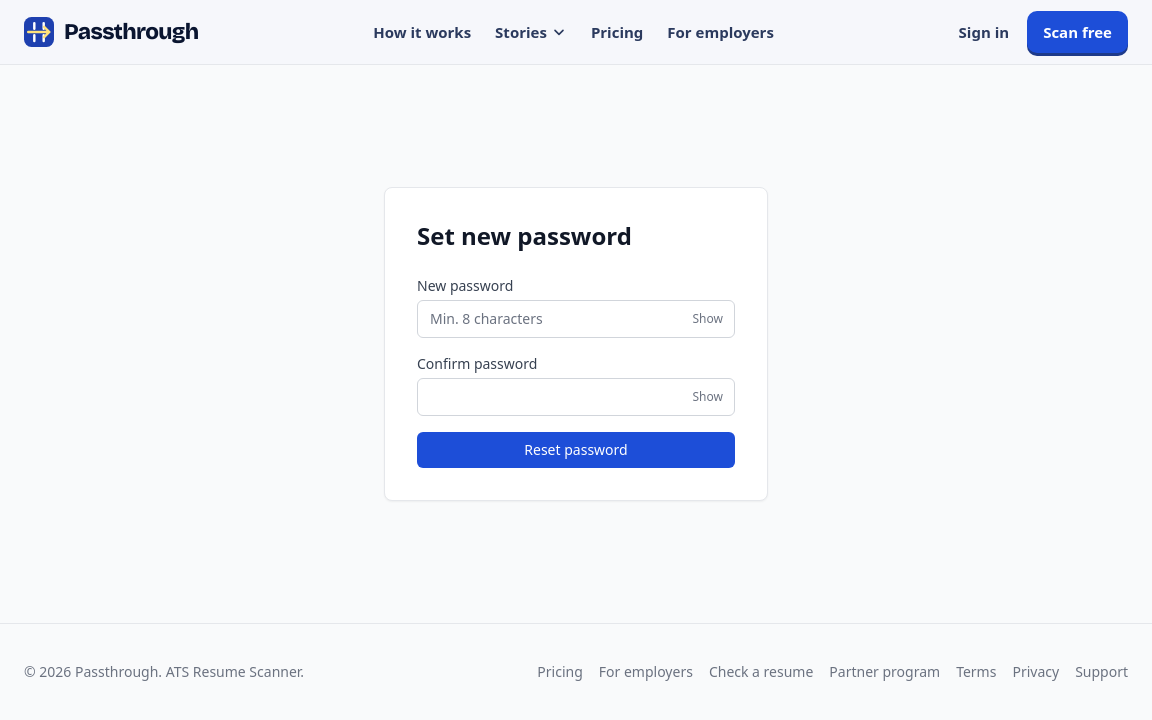
Test case: ResetPassword — a session this browser still holds › is re-checked after a successful reset (the reset revoked it), so Login does not bounce into "session expired"
Expected: the heading "Set new password" is shown, [417,219,632,252]
Type "correct-horse-battery-9" into the password field labelled "New password" at (576, 319), box [417,300,735,338]
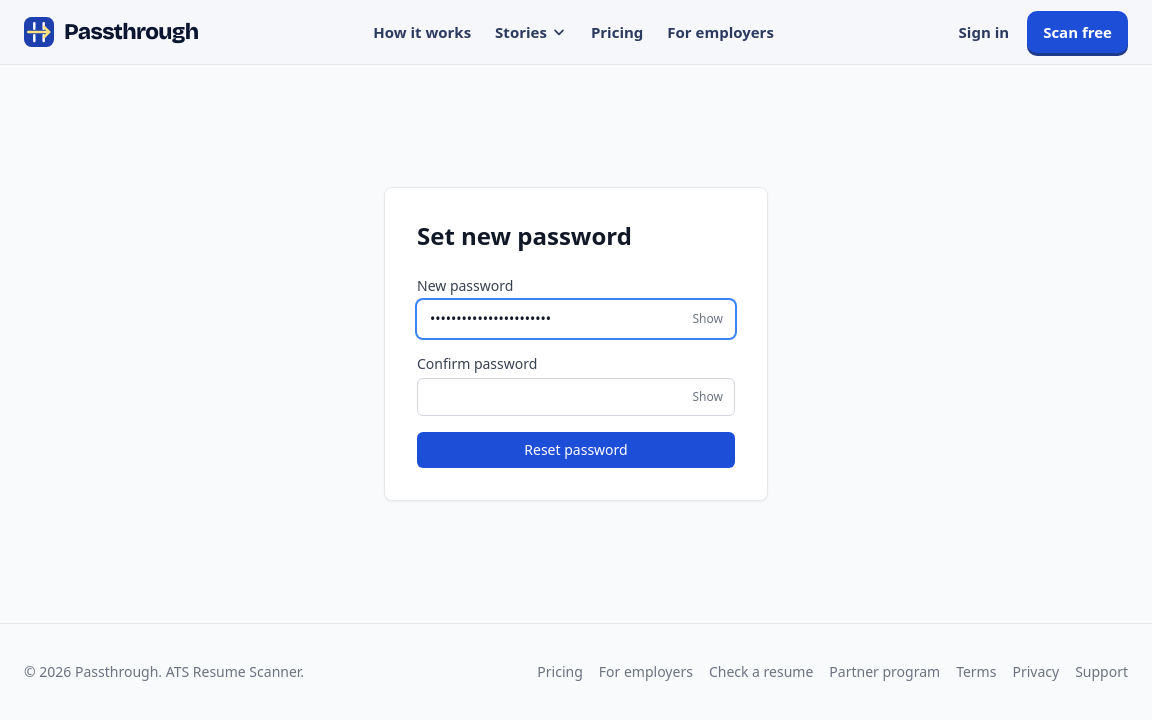
Type "correct-horse-battery-9" into the password field labelled "Confirm password" at (576, 397), box [417,378,735,416]
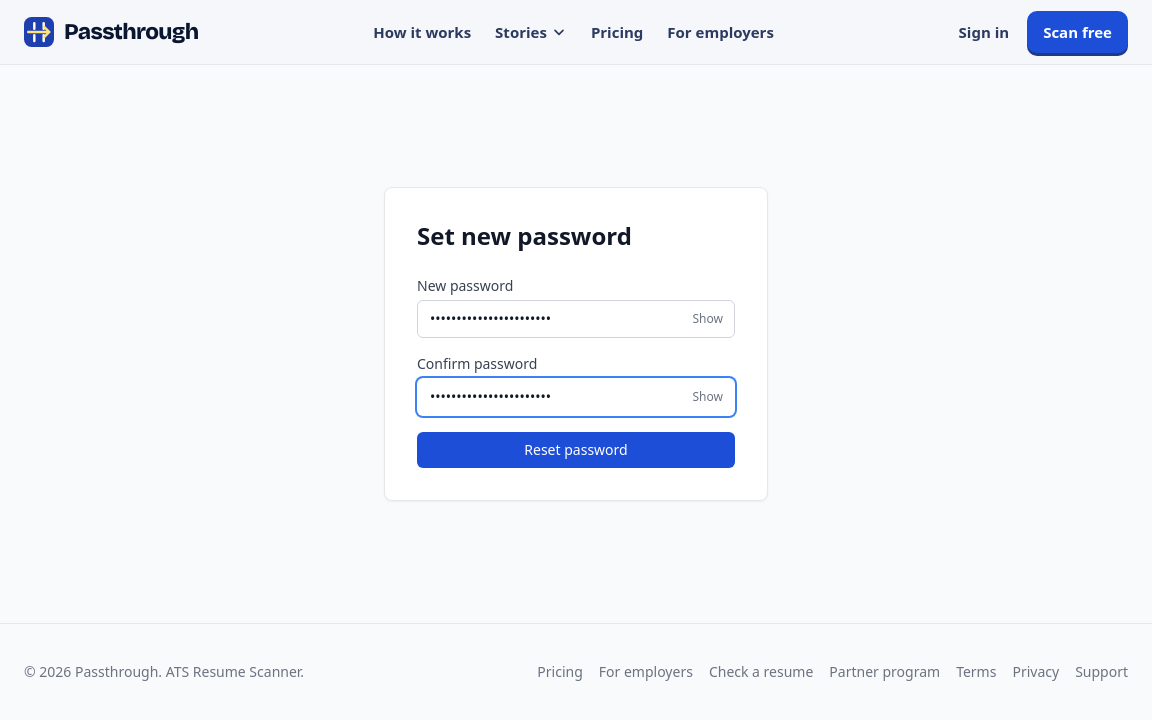
Click the button "Reset password" at (576, 450), box [417,432,735,468]
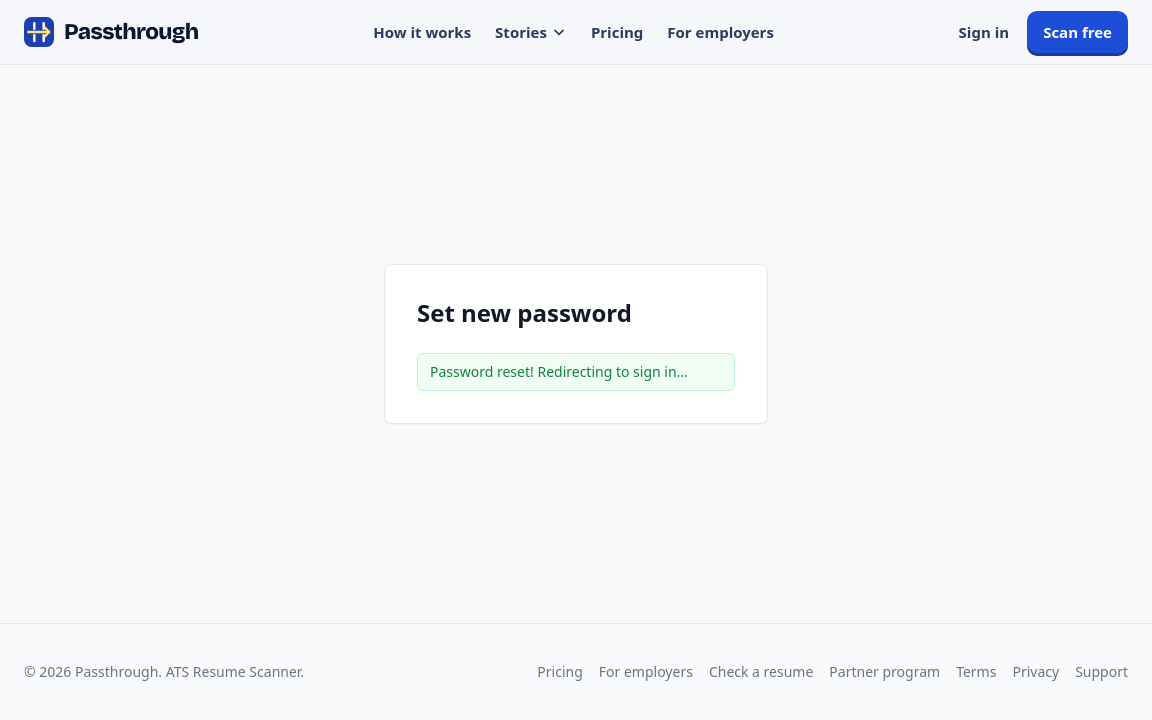
Now the text "Password reset! Redirecting to sign in…" is shown, box [417,353,735,391]
